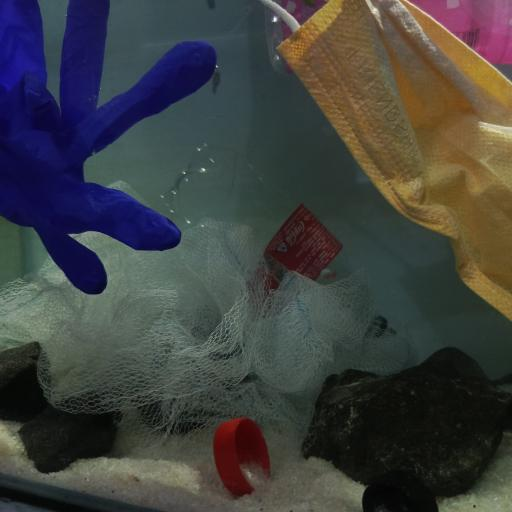bottle_cap: (212, 416, 270, 496), (360, 469, 437, 512)
glove: (2, 1, 223, 295)
mask: (258, 0, 512, 322)
net: (0, 183, 372, 427)
plastic_bottle: (168, 133, 382, 323), (268, 0, 512, 71)
